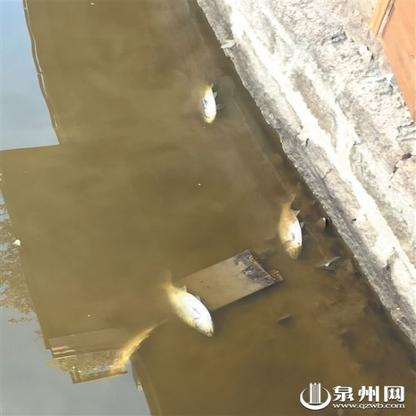deceased fish: (155, 273, 215, 338), (274, 192, 305, 260), (198, 77, 219, 125)
